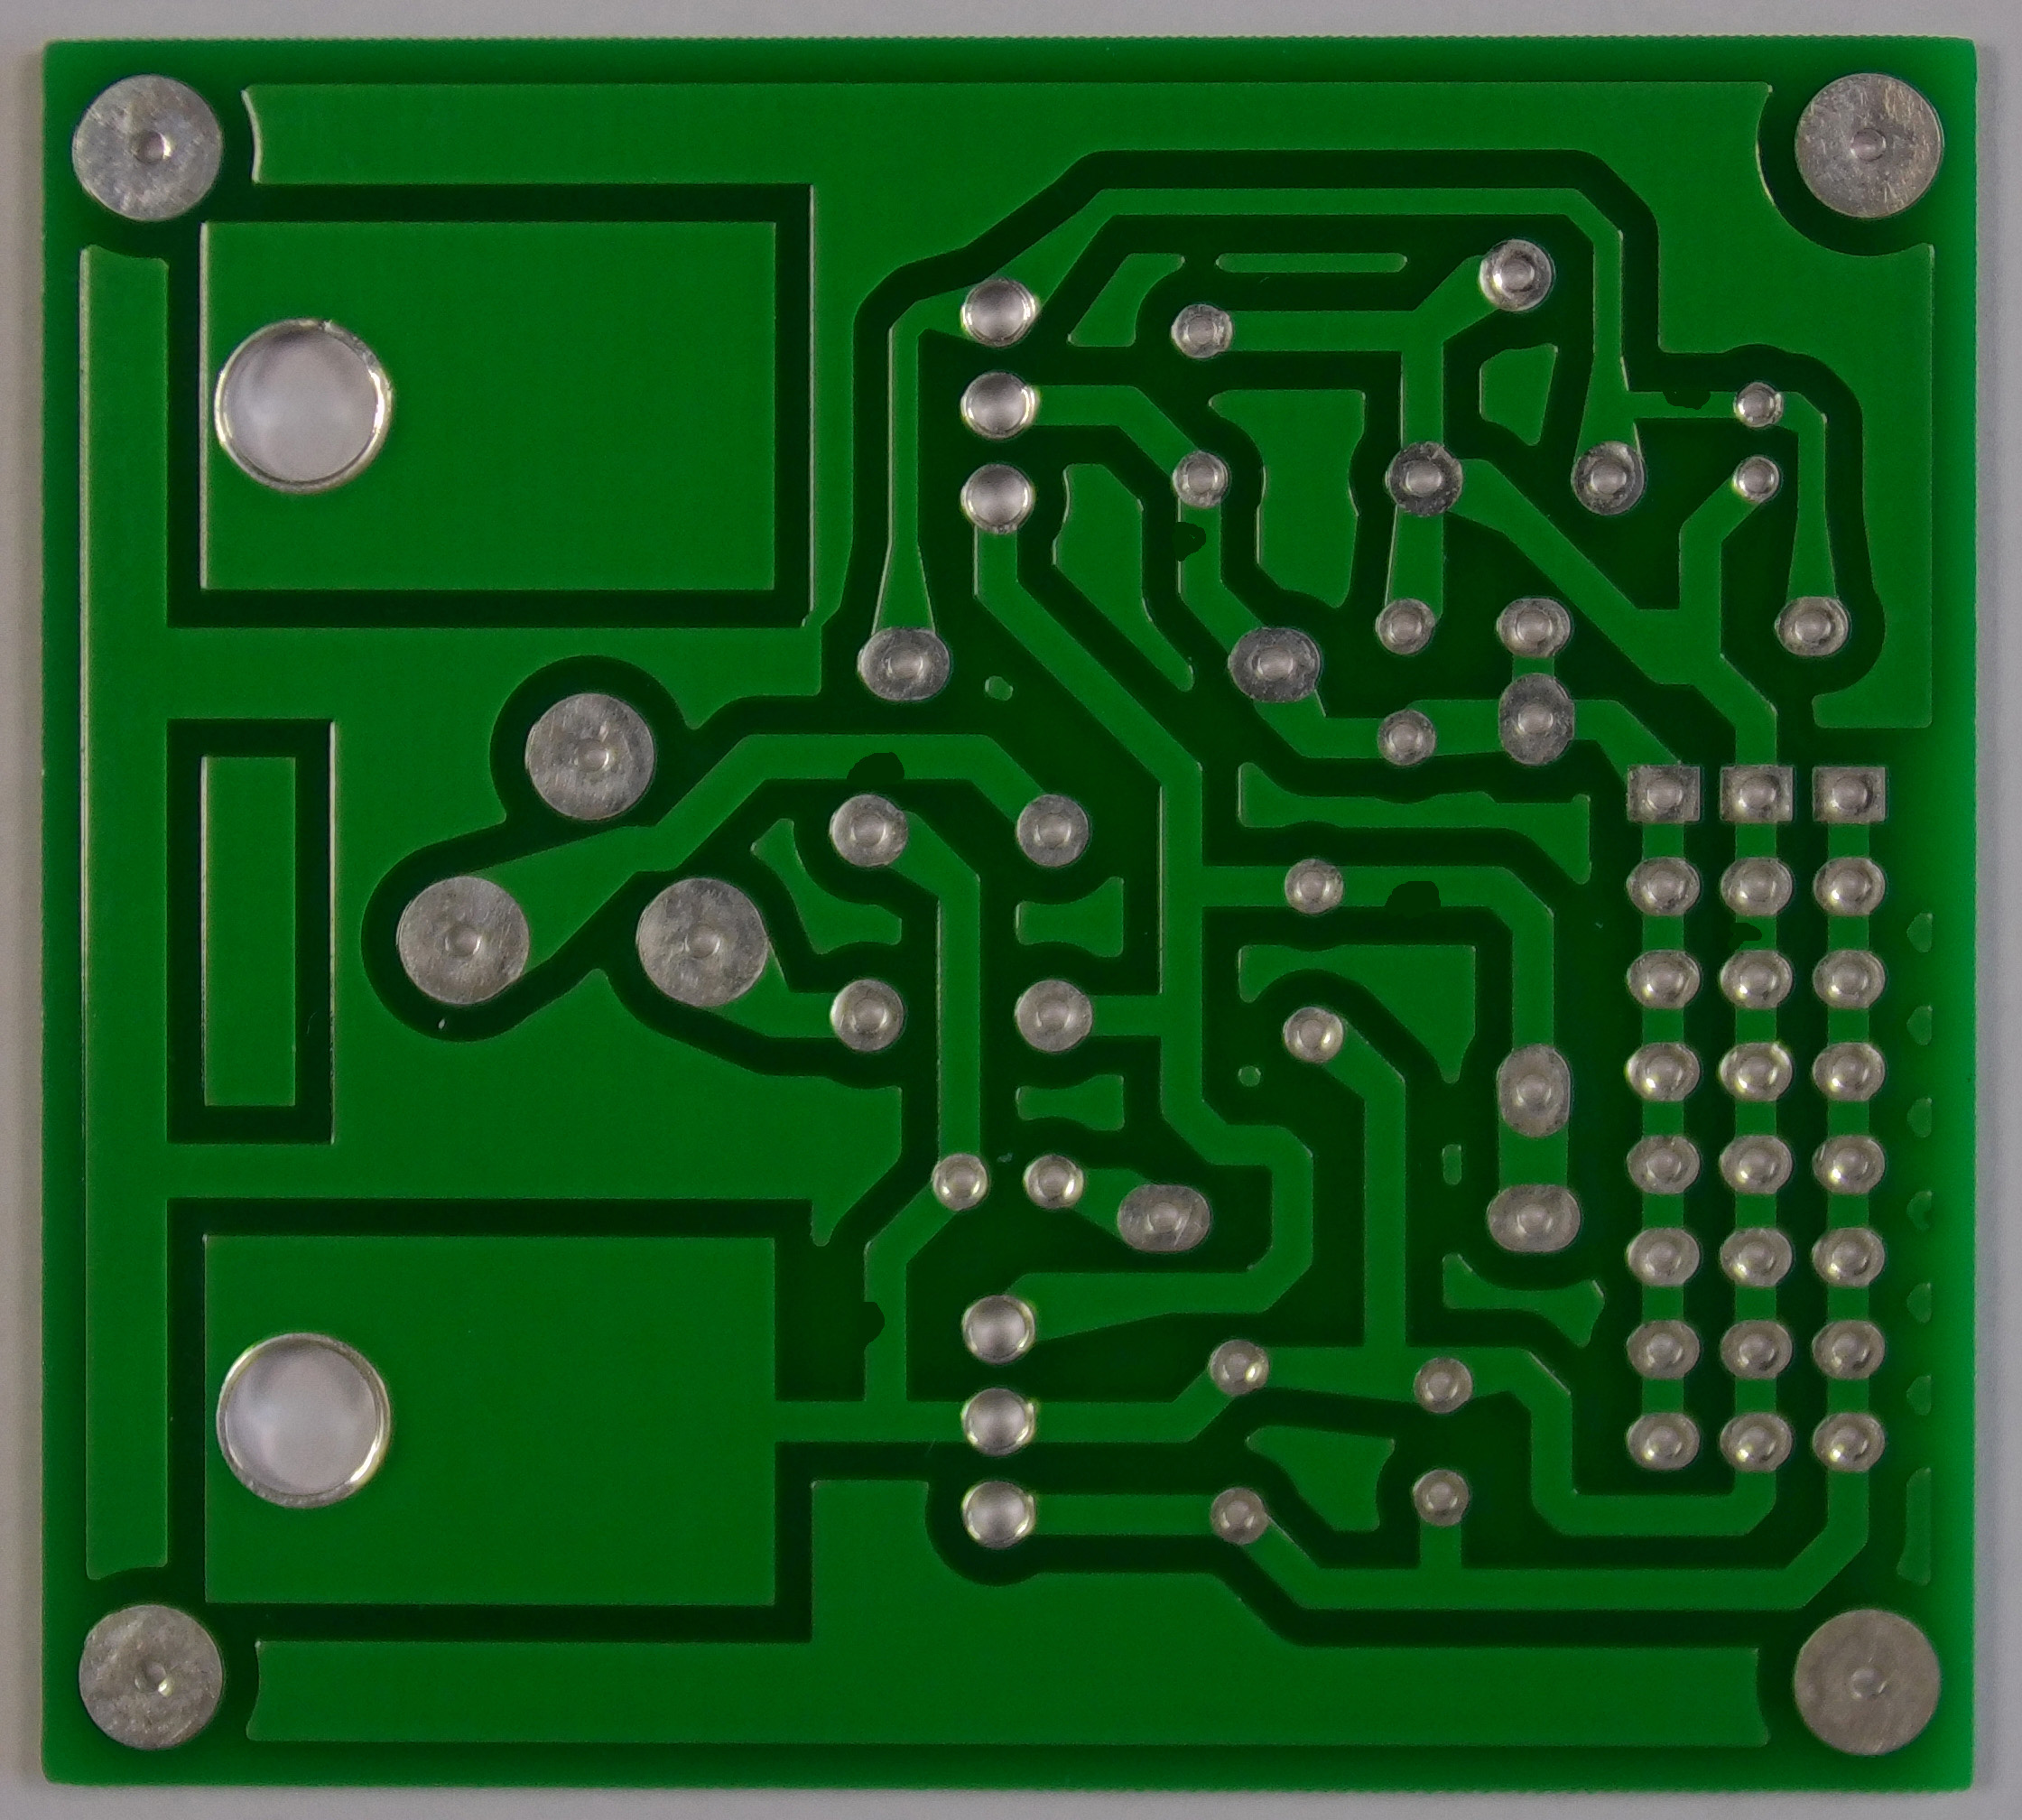mouse_bite: (837, 724, 913, 796), (1165, 506, 1233, 578), (1372, 864, 1454, 923), (849, 1288, 918, 1351), (1655, 376, 1722, 425), (1724, 910, 1783, 960)
